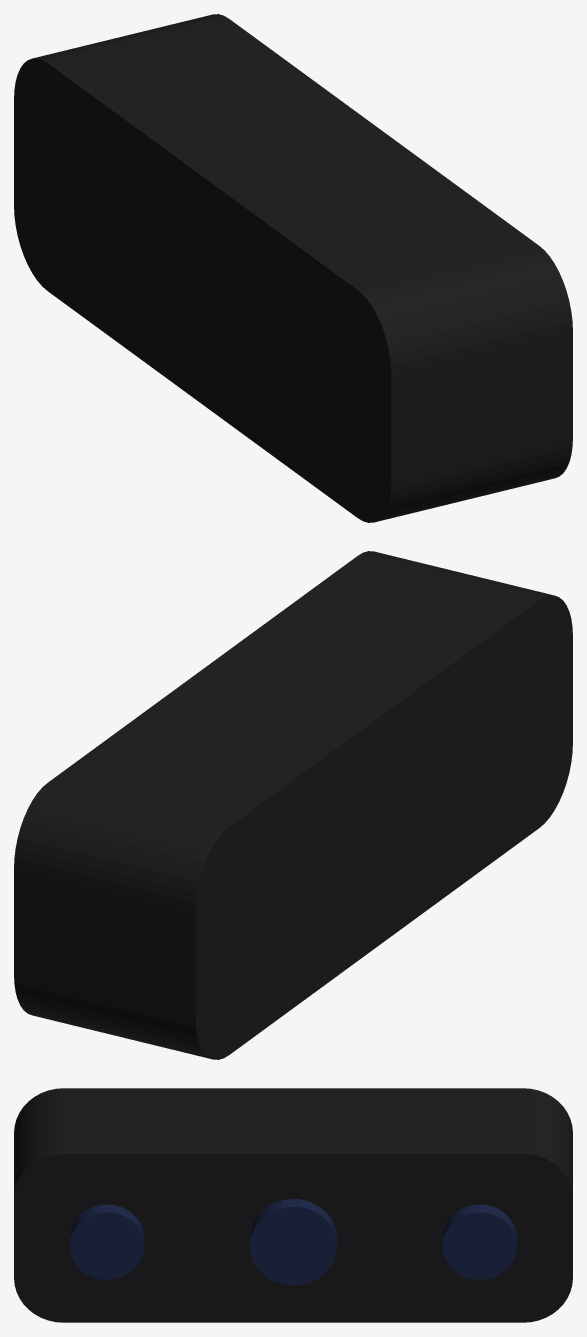
Rendered from camera.dae.
3 renders of one model, top to bottom at view 1: azimuth 30°, elevation 25°; view 2: azimuth 150°, elevation 25°; view 3: azimuth 270°, elevation 25°, orthographic. The views are drawn at different scales.
Visible parts, largest first — view 1: piece; view 2: piece; view 3: piece (×4).
Boxes of the visible parts, x1,y1,x2,y2 form: piece: (14, 14, 572, 522); piece: (14, 551, 572, 1059); piece (×4): (14, 1088, 572, 1322).
Size of the model in its own units: 0.028 by 0.09 by 0.03.
